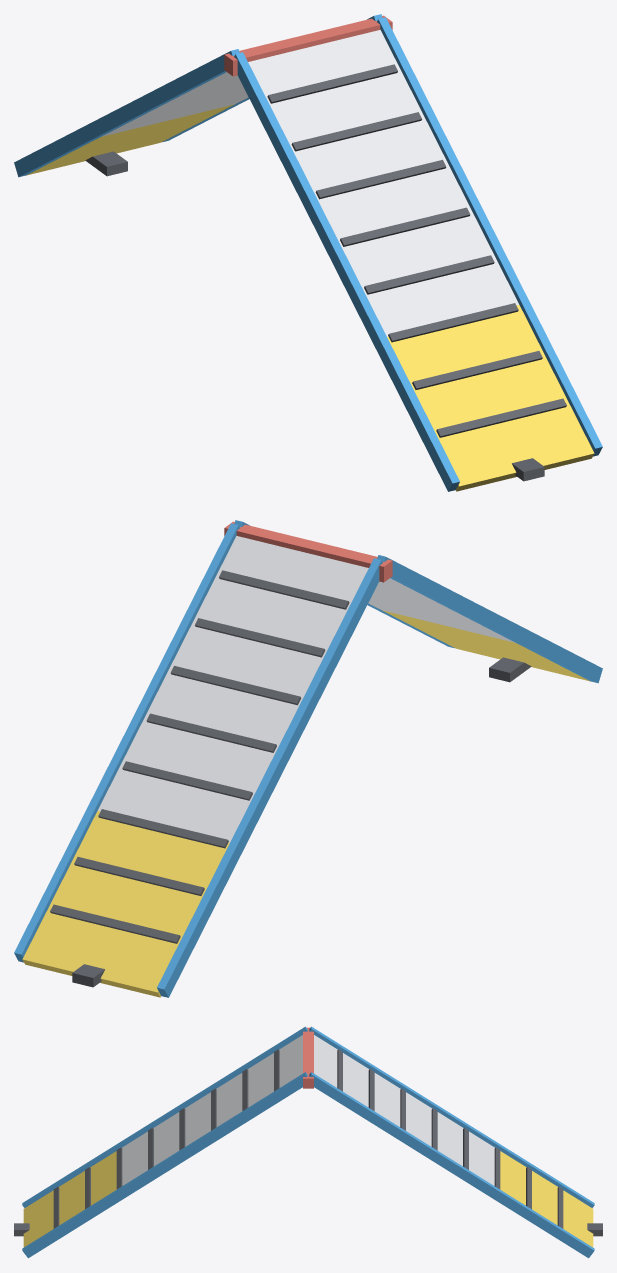
File: dog-agility-and-training-field-a-frame-ramp-ed89a0c3__35581.glb
3 renders of one model, top to bottom at view 1: azimuth 30°, elevation 25°; view 2: azimuth 150°, elevation 25°; view 3: azimuth 270°, elevation 25°, orthographic. The views are drawn at different scales.
Parts seen in each view (by area): view 1: a-frame-ramp-steel, a-frame-ramp-sunflower, a-frame-ramp-azure, a-frame-ramp-charcoal, a-frame-ramp-poppy; view 2: a-frame-ramp-steel, a-frame-ramp-sunflower, a-frame-ramp-azure, a-frame-ramp-charcoal, a-frame-ramp-poppy; view 3: a-frame-ramp-steel, a-frame-ramp-azure, a-frame-ramp-sunflower, a-frame-ramp-charcoal, a-frame-ramp-poppy.
Part boxes in pixels (x1=…): a-frame-ramp-steel: x1=101, y1=30, x2=519, y2=336; a-frame-ramp-sunflower: x1=26, y1=104, x2=594, y2=491; a-frame-ramp-azure: x1=14, y1=14, x2=602, y2=491; a-frame-ramp-charcoal: x1=85, y1=64, x2=566, y2=481; a-frame-ramp-poppy: x1=224, y1=15, x2=392, y2=76; a-frame-ramp-steel: x1=97, y1=536, x2=515, y2=842; a-frame-ramp-sunflower: x1=22, y1=610, x2=590, y2=997; a-frame-ramp-azure: x1=14, y1=520, x2=602, y2=997; a-frame-ramp-charcoal: x1=50, y1=570, x2=531, y2=987; a-frame-ramp-poppy: x1=224, y1=521, x2=392, y2=582; a-frame-ramp-steel: x1=122, y1=1035, x2=494, y2=1185; a-frame-ramp-azure: x1=22, y1=1026, x2=594, y2=1258; a-frame-ramp-sunflower: x1=23, y1=1151, x2=593, y2=1247; a-frame-ramp-charcoal: x1=14, y1=1049, x2=602, y2=1236; a-frame-ramp-poppy: x1=303, y1=1027, x2=313, y2=1088.
Size of the model in its own units: 1.06 by 1.8 by 5.2.
